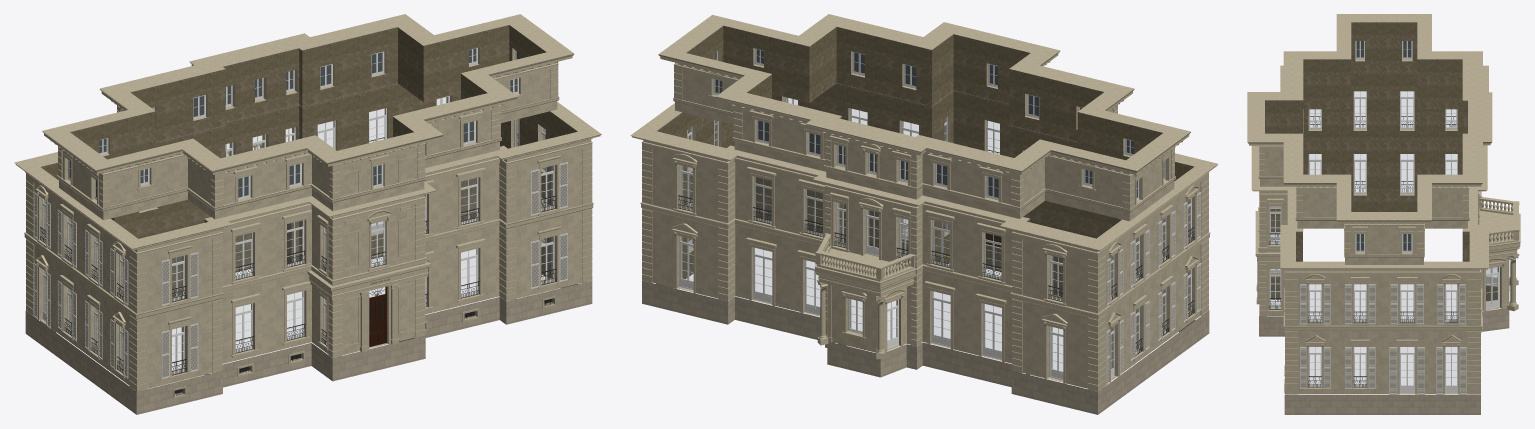
File: bati.glb
3 views of the same model, side by side, from view 1: azimuth 30°, elevation 25°; view 2: azimuth 150°, elevation 25°; view 3: azimuth 270°, elevation 25° (orthographic). The views are drawn at different scales.
Parts seen in each view (by area): view 1: bati_moulures_corniches_chaines, bati_murs_rdc, bati_murs_attique_parement_interieur, bati_murs_etage, bati_murs_attique, bati_murs_socle, bati_murs_etage_parement_interieur, bati_avant_corps_nord_decor, bati_murs_rdc_parement_interieur, bati_murs_socle_parement_interieur, bati_porte_entree_bois, bati_persiennes_N_f_rdc_+14,40 (+15 smaller); view 2: bati_moulures_corniches_chaines, bati_murs_rdc, bati_murs_attique_parement_interieur, bati_murs_etage, bati_murs_attique, bati_murs_socle, bati_murs_etage_parement_interieur, bati_murs_rdc_parement_interieur, bati_avant_corps_sud_entablement_balcon, bati_murs_socle_parement_interieur, bati_balcon_balustrade, bati_encadrement_S_f_etage_+8,85 (+16 smaller); view 3: bati_moulures_corniches_chaines, bati_murs_attique_parement_interieur, bati_murs_rdc, bati_murs_rdc_parement_interieur, bati_murs_etage, bati_murs_socle, bati_murs_etage_parement_interieur, bati_murs_attique, bati_avant_corps_sud_entablement_balcon, bati_murs_socle_parement_interieur, bati_persiennes_E_pf_rdc_+2,30, bati_balcon_balustrade (+40 smaller).
Part boxes in pixels (left/top/right/bottom): bati_moulures_corniches_chaines: left=14, top=14, right=601, bottom=391; bati_murs_rdc: left=34, top=200, right=590, bottom=388; bati_murs_attique_parement_interieur: left=70, top=25, right=546, bottom=159; bati_murs_etage: left=34, top=95, right=591, bottom=313; bati_murs_attique: left=59, top=47, right=557, bottom=220; bati_murs_socle: left=25, top=281, right=592, bottom=414; bati_murs_etage_parement_interieur: left=41, top=83, right=577, bottom=222; bati_avant_corps_nord_decor: left=307, top=156, right=430, bottom=352; bati_murs_rdc_parement_interieur: left=115, top=143, right=551, bottom=284; bati_murs_socle_parement_interieur: left=40, top=207, right=577, bottom=374; bati_porte_entree_bois: left=369, top=286, right=386, bottom=346; bati_persiennes_N_f_rdc_+14,40: left=531, top=233, right=567, bottom=288; bati_moulures_corniches_chaines: left=630, top=14, right=1217, bottom=391; bati_murs_rdc: left=652, top=197, right=1200, bottom=388; bati_murs_attique_parement_interieur: left=686, top=25, right=1162, bottom=160; bati_murs_etage: left=652, top=96, right=1200, bottom=311; bati_murs_attique: left=675, top=48, right=1174, bottom=221; bati_murs_socle: left=642, top=254, right=1209, bottom=414; bati_murs_etage_parement_interieur: left=657, top=83, right=1194, bottom=241; bati_murs_rdc_parement_interieur: left=682, top=143, right=1119, bottom=284; bati_avant_corps_sud_entablement_balcon: left=814, top=249, right=916, bottom=353; bati_murs_socle_parement_interieur: left=656, top=206, right=1195, bottom=374; bati_balcon_balustrade: left=815, top=233, right=915, bottom=281; bati_encadrement_S_f_etage_+8,85: left=746, top=166, right=776, bottom=228; bati_moulures_corniches_chaines: left=1247, top=14, right=1492, bottom=394; bati_murs_attique_parement_interieur: left=1265, top=22, right=1467, bottom=133; bati_murs_rdc: left=1260, top=194, right=1503, bottom=393; bati_murs_rdc_parement_interieur: left=1270, top=133, right=1462, bottom=279; bati_murs_etage: left=1260, top=129, right=1479, bottom=325; bati_murs_socle: left=1259, top=308, right=1509, bottom=414; bati_murs_etage_parement_interieur: left=1270, top=72, right=1469, bottom=261; bati_murs_attique: left=1260, top=60, right=1467, bottom=264; bati_avant_corps_sud_entablement_balcon: left=1480, top=211, right=1520, bottom=308; bati_murs_socle_parement_interieur: left=1271, top=201, right=1497, bottom=301; bati_persiennes_E_pf_rdc_+2,30: left=1389, top=347, right=1424, bottom=394; bati_balcon_balustrade: left=1479, top=196, right=1519, bottom=245.
Size of the model in its own units: 34.56 by 15.6 by 19.34.
Materials: 12 (5 with a texture image).
